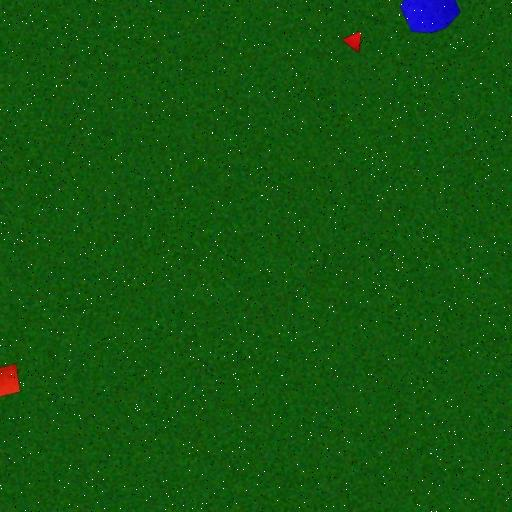RED_SQUARE: (0, 362, 21, 400)
